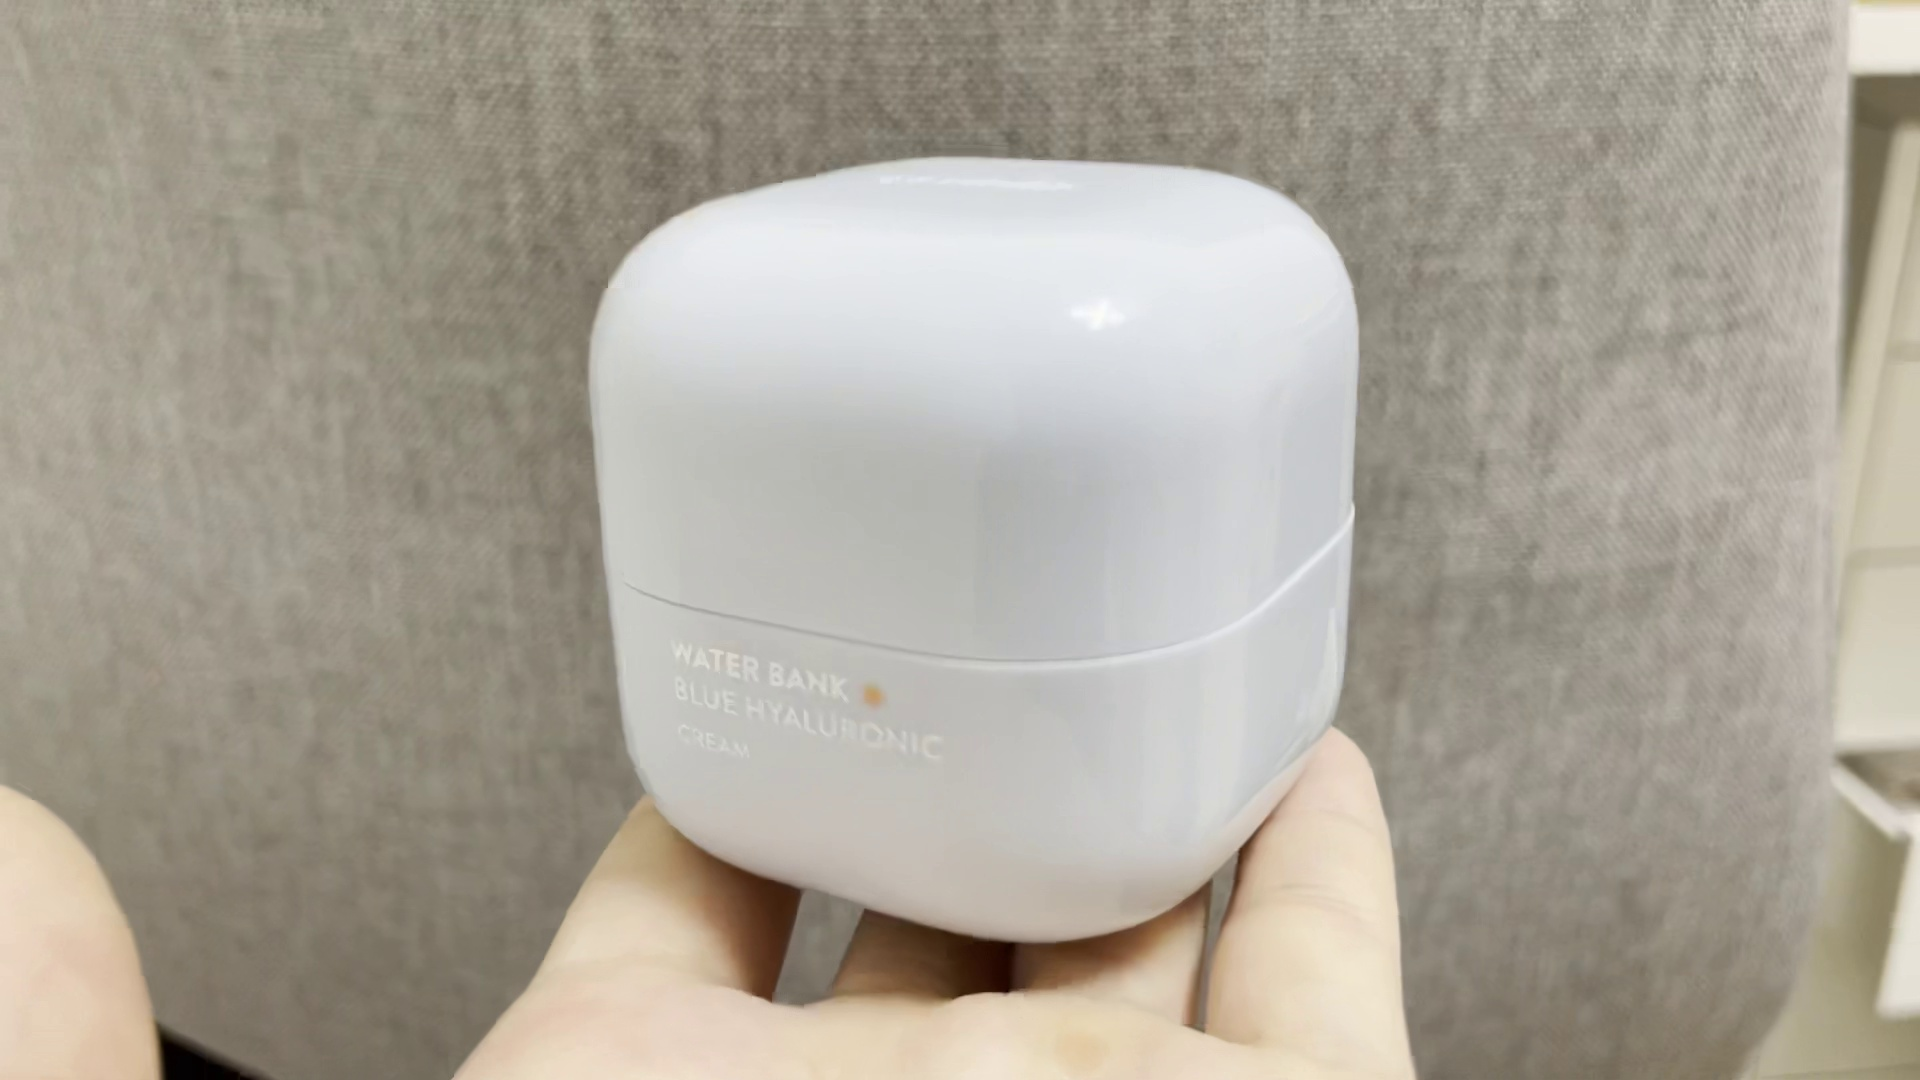cream: (584, 160, 1350, 940)
